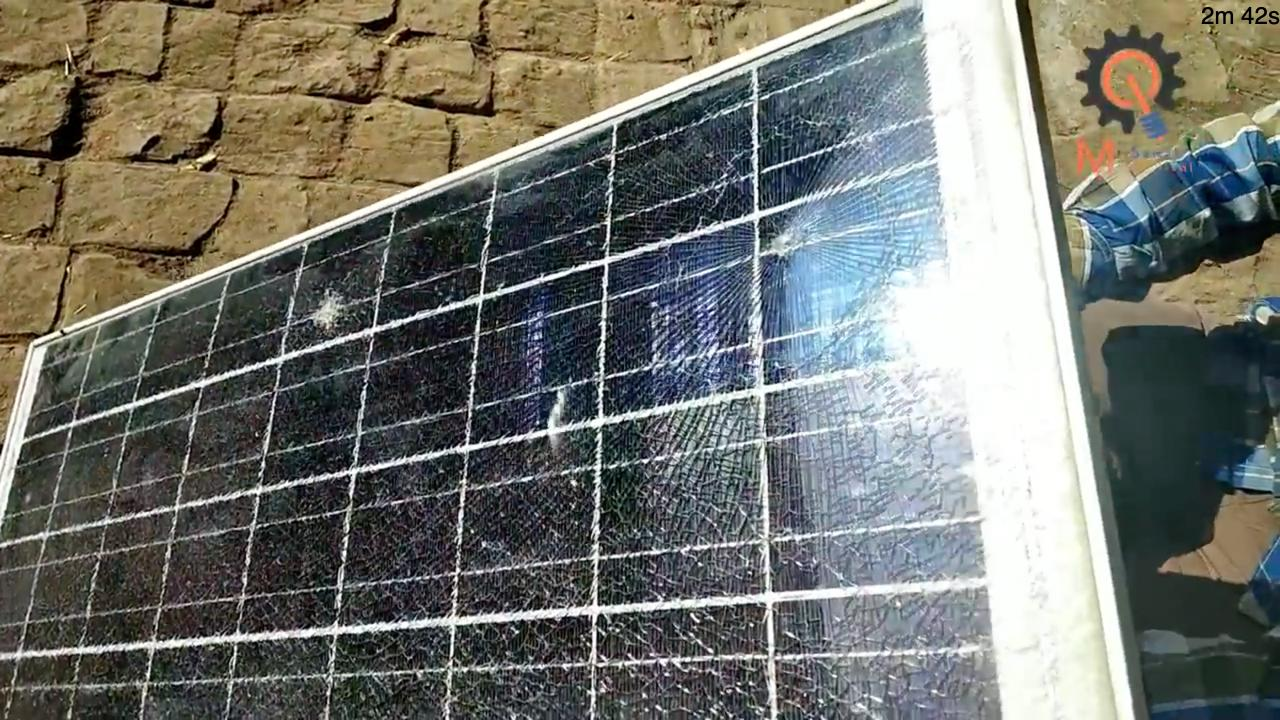Crack: (645, 335, 969, 704), (387, 340, 640, 718), (176, 350, 377, 716), (693, 15, 924, 298), (0, 356, 168, 715), (312, 282, 360, 336)
